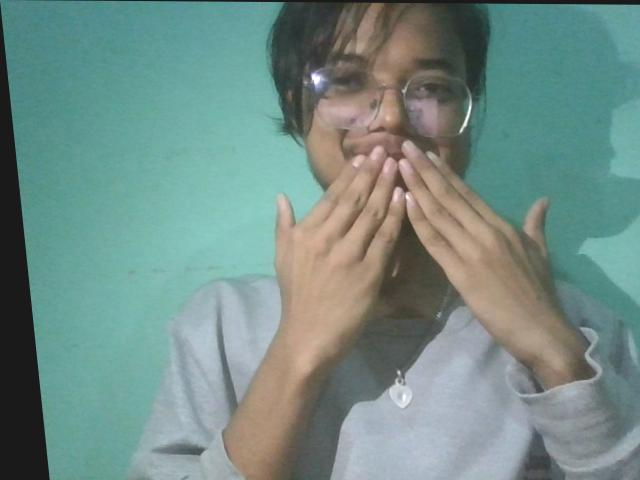Thank You: (201, 102, 615, 430)
